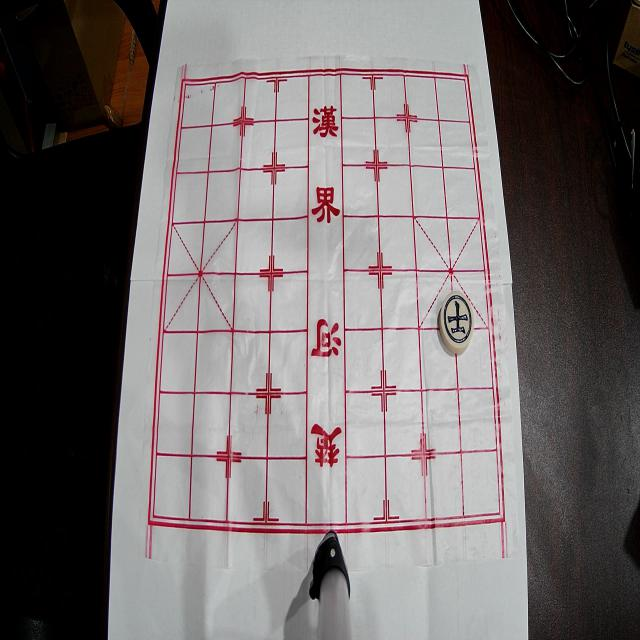black-guard: (440, 291, 474, 353)
